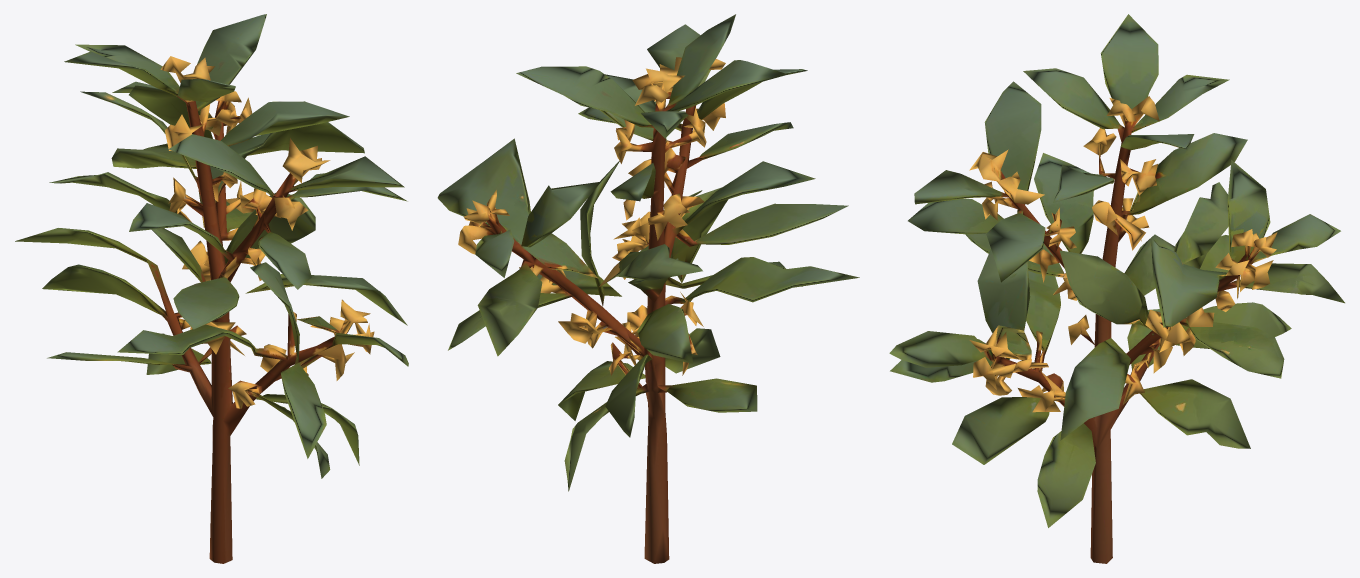
The model's file is 妗傝姳.glb.
3 views of the same model, side by side, from view 1: azimuth 30°, elevation 25°; view 2: azimuth 150°, elevation 25°; view 3: azimuth 270°, elevation 25° (orthographic). The views are drawn at different scales.
Parts seen in each view (by area): view 1: tripo_node_6935fc11-350d-4a7e-aa10-bbcd56b62af0; view 2: tripo_node_6935fc11-350d-4a7e-aa10-bbcd56b62af0; view 3: tripo_node_6935fc11-350d-4a7e-aa10-bbcd56b62af0.
Boxes of the visible parts, x1,y1,x2,y2 form: tripo_node_6935fc11-350d-4a7e-aa10-bbcd56b62af0: (15,14,408,563); tripo_node_6935fc11-350d-4a7e-aa10-bbcd56b62af0: (437,14,859,563); tripo_node_6935fc11-350d-4a7e-aa10-bbcd56b62af0: (889,14,1344,563).
Size of the model in its own units: 0.6621 by 1 by 0.8601.
1 material, 1 textured.
